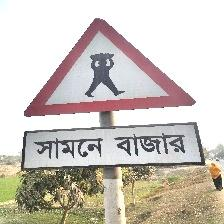Market-in-front: (21, 14, 203, 166)
